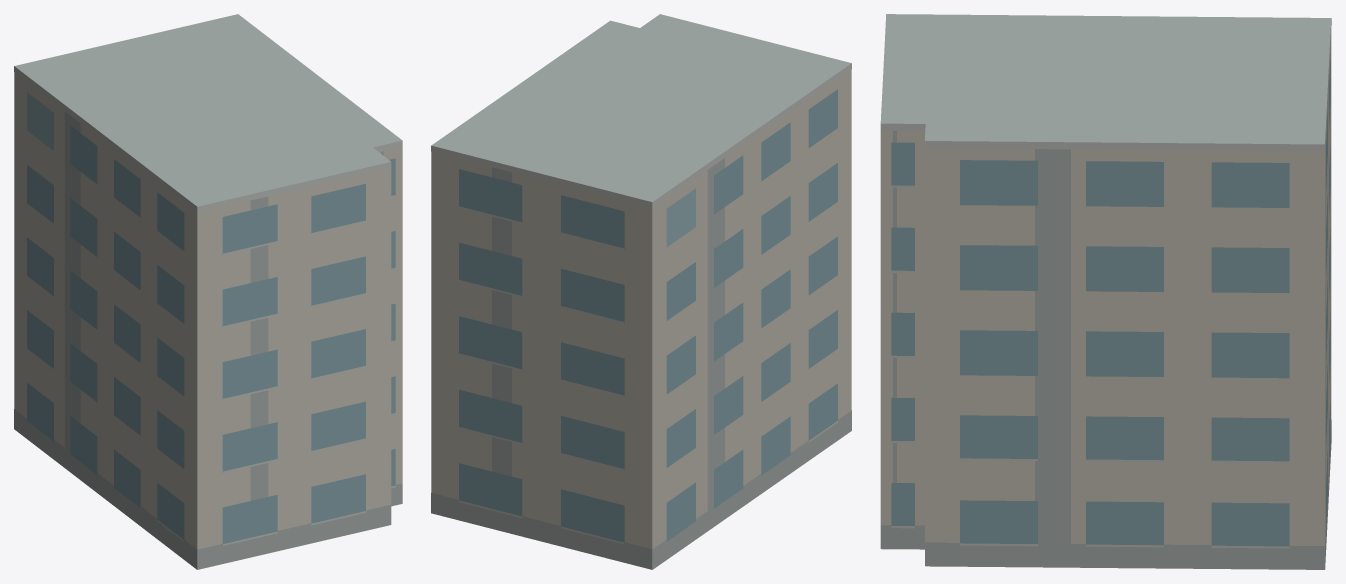
File: survey-upis-32913782.glb
The picture shows the model from 3 angles, left to right: view 1: azimuth 30°, elevation 25°; view 2: azimuth 150°, elevation 25°; view 3: azimuth 270°, elevation 25°; orthographic projection. The views are drawn at different scales.
Parts seen in each view (by area): view 1: survey-upis-32913782.tmp; view 2: survey-upis-32913782.tmp; view 3: survey-upis-32913782.tmp.
Boxes of the visible parts, left/top/right/bottom form: survey-upis-32913782.tmp: left=14, top=14, right=402, bottom=569; survey-upis-32913782.tmp: left=431, top=14, right=851, bottom=569; survey-upis-32913782.tmp: left=880, top=14, right=1331, bottom=569.
Bounding box in the file's own units: 9.54 × 14.5 × 13.93.
